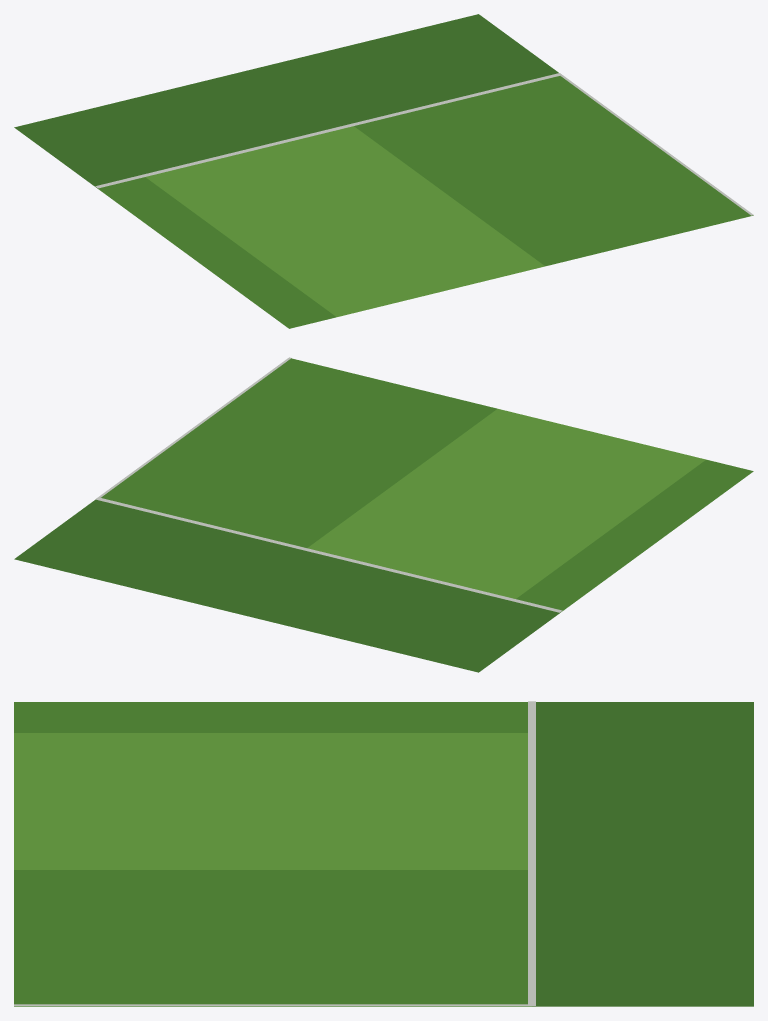
The model's file is pitch_2_0.glb.
The picture shows the model from 3 angles, top to bottom: view 1: azimuth 30°, elevation 25°; view 2: azimuth 150°, elevation 25°; view 3: azimuth 270°, elevation 25°; orthographic projection. The views are drawn at different scales.
Visible parts, largest first — view 1: pitch_2_0; view 2: pitch_2_0; view 3: pitch_2_0.
Part boxes in pixels (x1,y1,x2,y2): pitch_2_0: [14, 14, 753, 328]; pitch_2_0: [14, 357, 753, 672]; pitch_2_0: [14, 701, 753, 1006].
Bounding box in the file's own units: 19.5 × 0.02 × 20.
